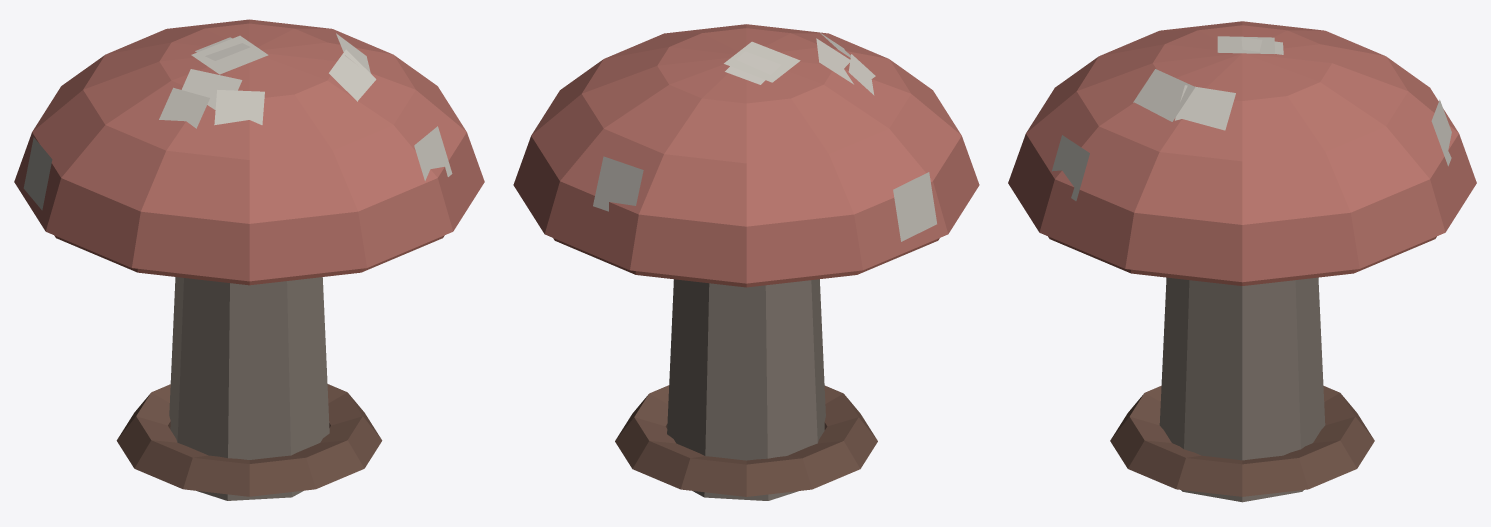
Rendered from toadstool_v0.glb.
The picture shows the model from 3 angles, left to right: view 1: azimuth 30°, elevation 25°; view 2: azimuth 150°, elevation 25°; view 3: azimuth 270°, elevation 25°; orthographic projection.
Visible parts, largest first — view 1: world; view 2: world; view 3: world.
Part boxes in pixels (box(x1,y1,x2,y2)): world: box(14, 19, 484, 500); world: box(513, 24, 979, 500); world: box(1008, 21, 1476, 502).
Bounding box in the file's own units: 1 × 0.9822 × 1.
